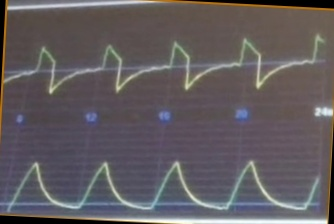Normal Flow: (5, 32, 325, 97)
Normal Volume: (5, 143, 323, 214)
